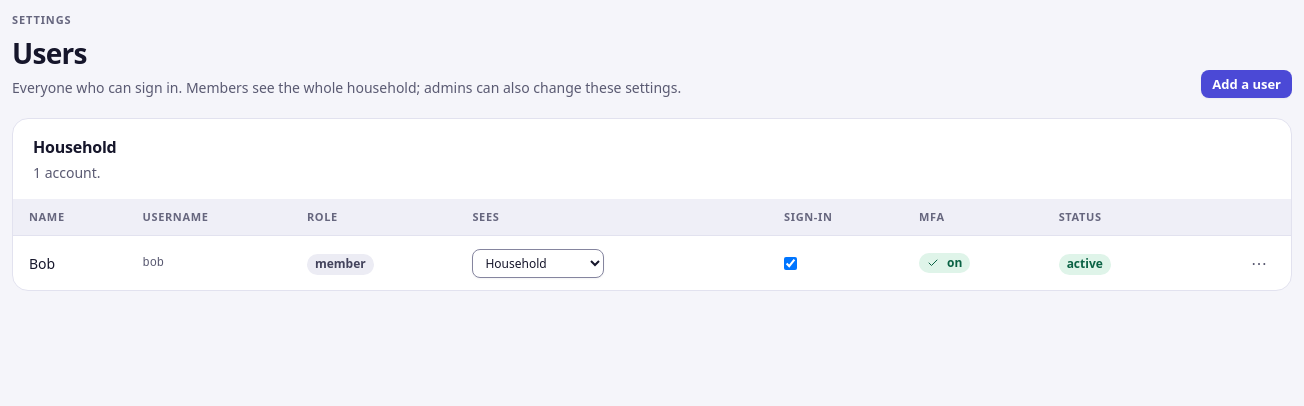
v1.12.1: Deactivate and Reset MFA ask first (item AU / UX-6, ruling R5) › Deactivate opens a confirm row naming the person, and posts nothing until confirmed
Click the button "⋯".
click(1259, 263)  # box [1243,247,1275,279]
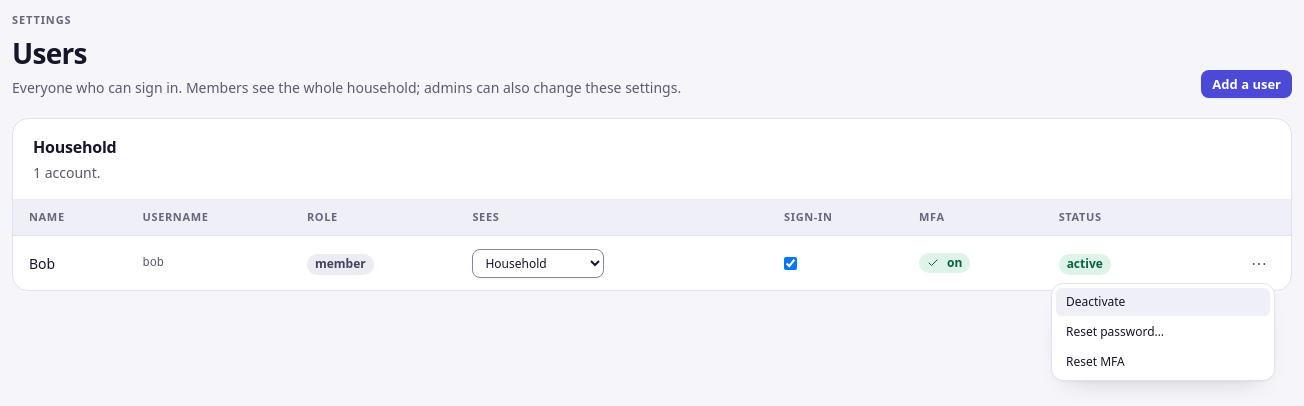
Click the menu item "Deactivate".
click(1163, 302)  # box [1056,288,1270,316]
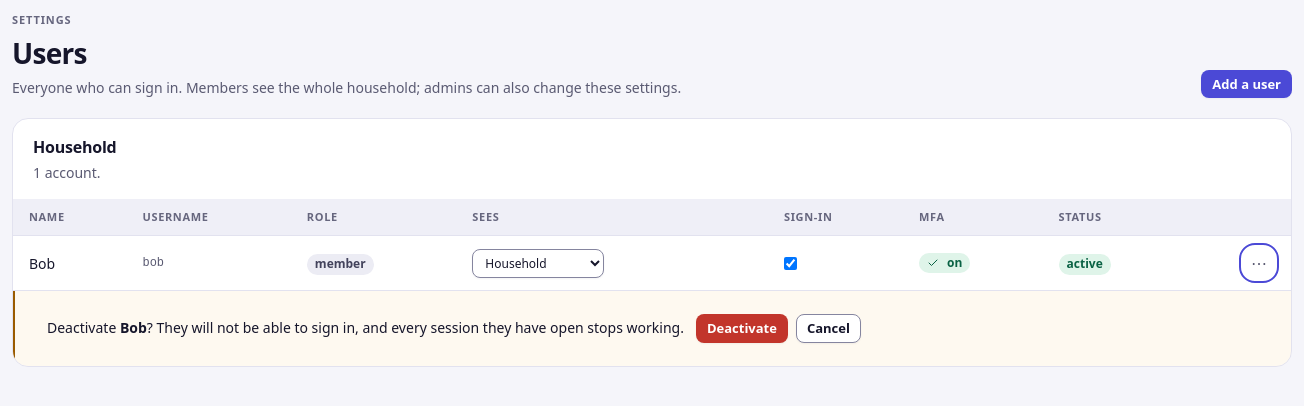
expect the text "They will not be able to sign in" shows "Bob": met, box [120,318,147,338]
expect the button "Cancel" is shown: met, box [796,314,861,343]
expect the button "Deactivate" is shown: met, box [696,314,788,343]
